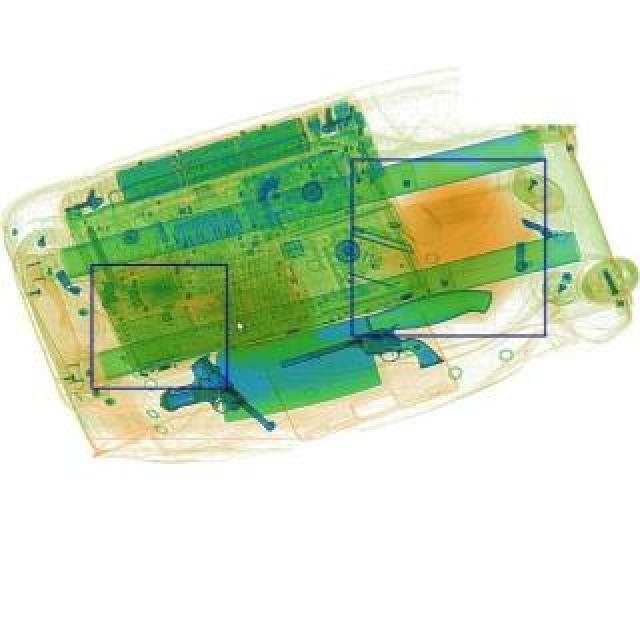gun: (276, 312, 444, 410), (152, 354, 278, 468)
knife: (202, 278, 510, 426)
